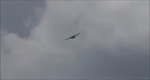maybay_muctieu: (65, 31, 82, 41)
